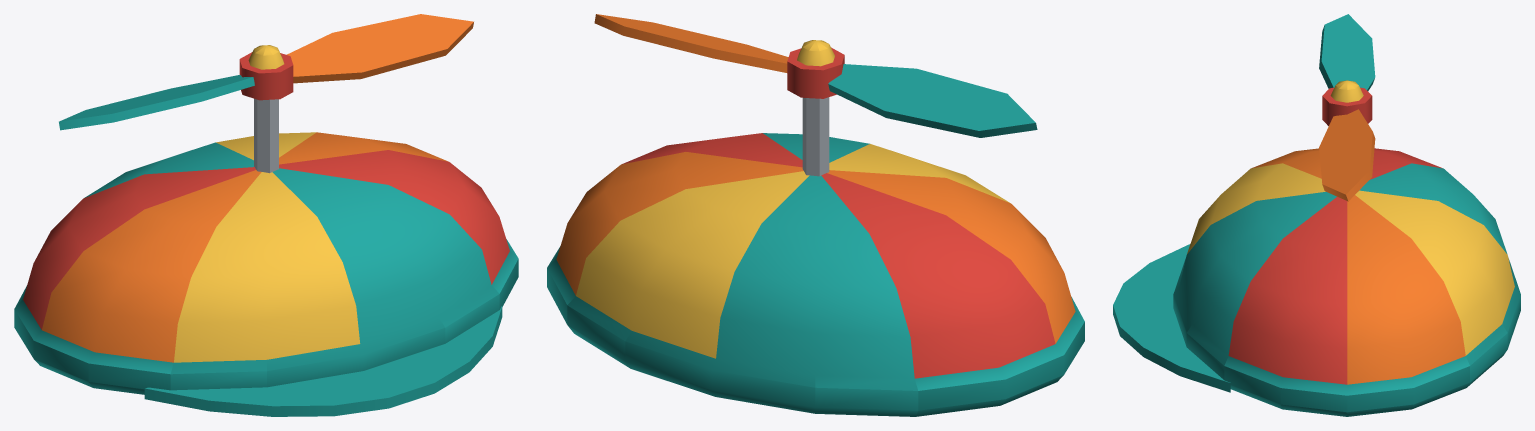
The model's file is GorroHelice.fbx.
3 views of the same model, side by side, from view 1: azimuth 30°, elevation 25°; view 2: azimuth 150°, elevation 25°; view 3: azimuth 270°, elevation 25° (orthographic). The views are drawn at different scales.
Visible parts, largest first — view 1: GorroHelice; view 2: GorroHelice; view 3: GorroHelice.
Boxes of the visible parts, <box> form: GorroHelice: <box>14,14,518,416</box>; GorroHelice: <box>547,14,1084,416</box>; GorroHelice: <box>1113,14,1520,416</box>.
Bounding box in the file's own units: 1.45 × 0.79 × 1.23.
1 material, 1 textured.
